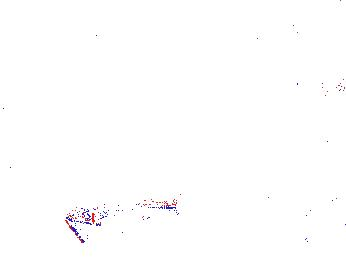X-ray fish: (89, 24, 111, 67)
glassfish: (67, 198, 181, 227)
red belly glassfish: (294, 73, 343, 94), (256, 17, 305, 35)
